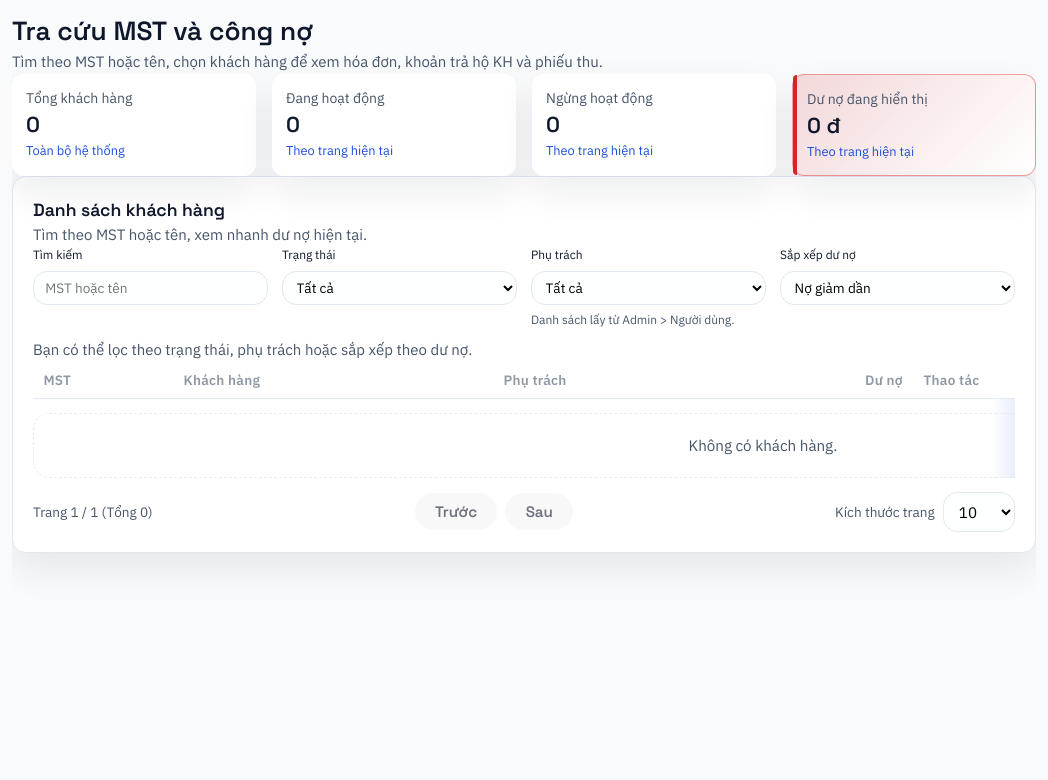
Scenario: CustomerListSection unassigned owner filter › requests unassigned customers when selecting Chưa phân công
Select "Chưa phân công" in the dropdown named "Chưa phân công" at (648, 288), box [531,271,766,305]
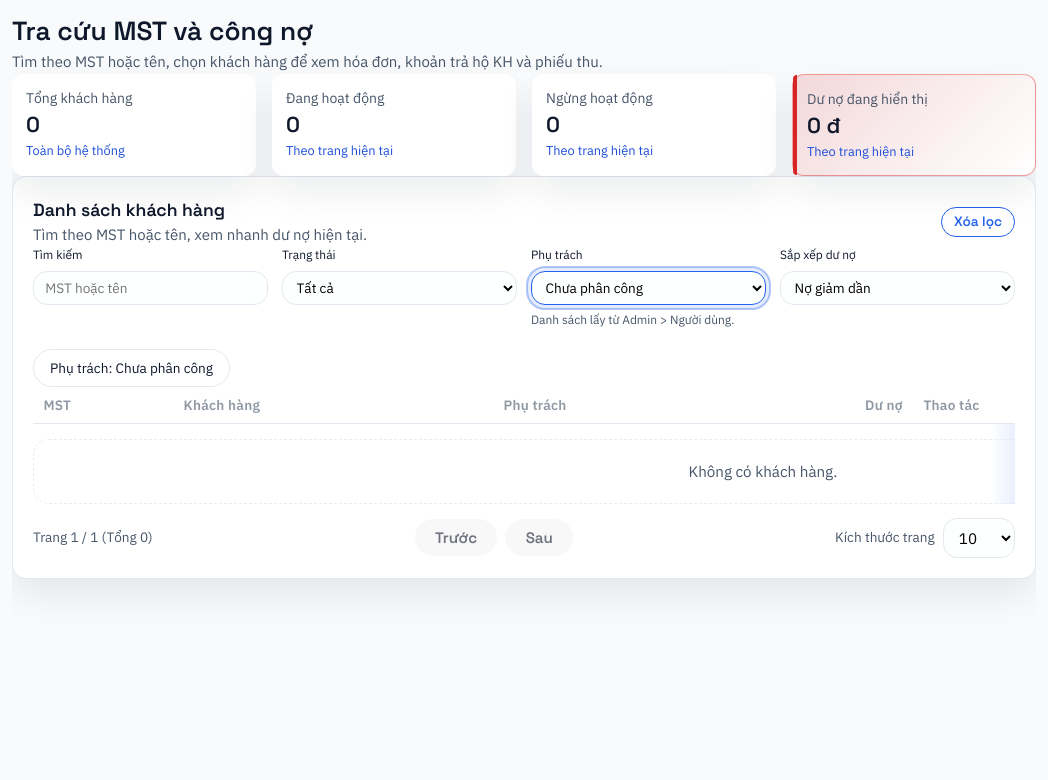
Now the text "Phụ trách: Chưa phân công" is shown, box [33,349,230,388]
